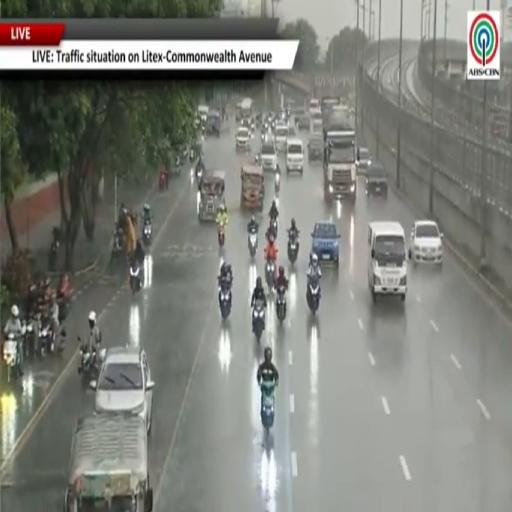car: (90, 346, 154, 433), (409, 220, 443, 265), (311, 220, 339, 266), (366, 162, 387, 199), (259, 138, 278, 172), (357, 148, 372, 174), (236, 126, 250, 151), (289, 125, 296, 137)
jeepney: (65, 413, 152, 511), (198, 170, 225, 220), (241, 164, 264, 211), (308, 134, 324, 162), (206, 110, 221, 136)
motorcycle: (78, 338, 98, 382), (261, 381, 275, 435), (24, 318, 42, 359), (3, 333, 18, 382), (57, 282, 73, 323), (39, 317, 55, 355), (252, 300, 264, 342), (219, 283, 232, 321), (307, 277, 320, 314), (111, 228, 125, 261), (276, 286, 286, 323), (130, 264, 142, 294), (48, 239, 59, 271), (288, 235, 299, 264), (265, 260, 275, 289), (248, 231, 257, 258), (143, 222, 152, 247), (159, 170, 168, 190), (270, 218, 278, 238), (218, 226, 225, 247), (195, 165, 203, 182), (274, 172, 280, 194), (189, 150, 195, 163), (261, 132, 266, 142)
truck: (324, 118, 356, 202)
